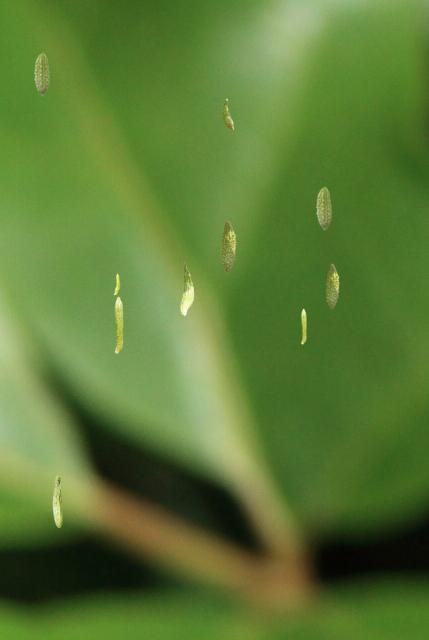ampalaya: (219, 220, 236, 273), (179, 260, 194, 316), (33, 52, 50, 96), (315, 186, 332, 230), (325, 263, 340, 309), (52, 475, 63, 528), (114, 296, 123, 353), (221, 98, 234, 130), (300, 308, 306, 344), (113, 272, 120, 295), (60, 476, 62, 503)
